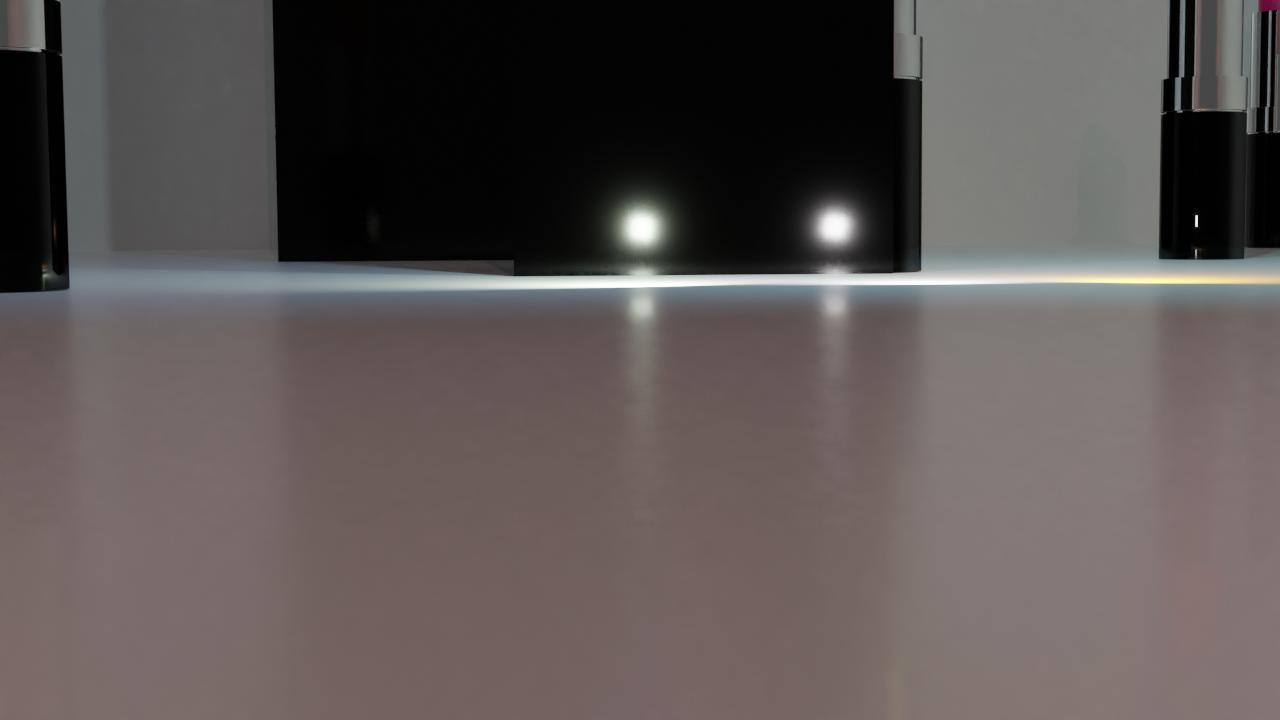CLASSIFIER_NAME: (1157, 0, 1250, 266), (0, 0, 73, 292), (1242, 0, 1280, 248)
